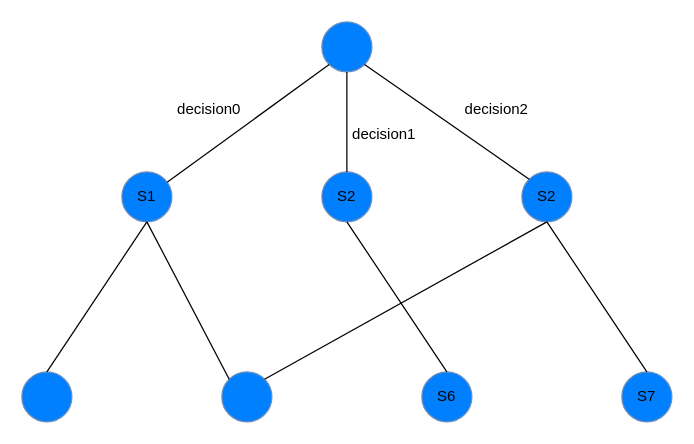
Some shapes in this 694 by 444 pixel diagram are drawn without their labels. Here are the shapes that lost their labels. From the top down, the box of each, then its label:
(321, 21, 372, 72): S0
(21, 371, 72, 422): S4
(221, 371, 272, 422): S5
